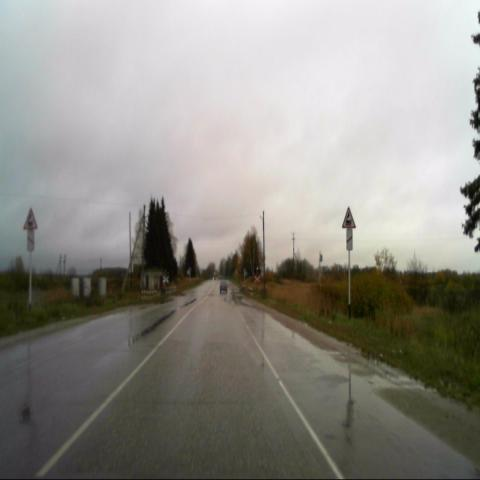1_2: (23, 208, 38, 229)
